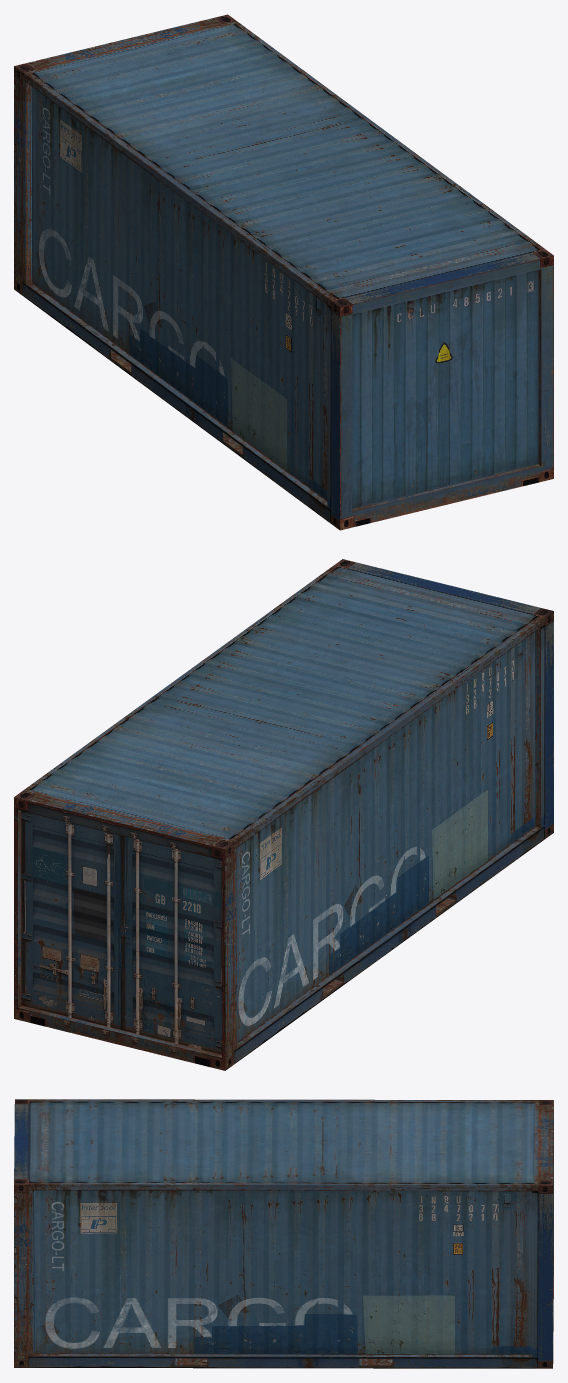
The model's file is Cargo_container_v1_LD2close (2).001.glb.
The picture shows the model from 3 angles, top to bottom: view 1: azimuth 30°, elevation 25°; view 2: azimuth 150°, elevation 25°; view 3: azimuth 270°, elevation 25°; orthographic projection. The views are drawn at different scales.
Parts seen in each view (by area): view 1: Cargo_container_v1_LD2close (2).001; view 2: Cargo_container_v1_LD2close (2).001; view 3: Cargo_container_v1_LD2close (2).001.
Boxes of the visible parts, <box> form: Cargo_container_v1_LD2close (2).001: <box>14,14,553,530</box>; Cargo_container_v1_LD2close (2).001: <box>14,559,553,1070</box>; Cargo_container_v1_LD2close (2).001: <box>14,1099,553,1368</box>.
Size of the model in its own units: 3.03 by 3 by 8.01.
Materials: 1 (1 with a texture image).
